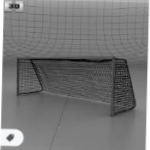goals: (14, 54, 139, 119)
